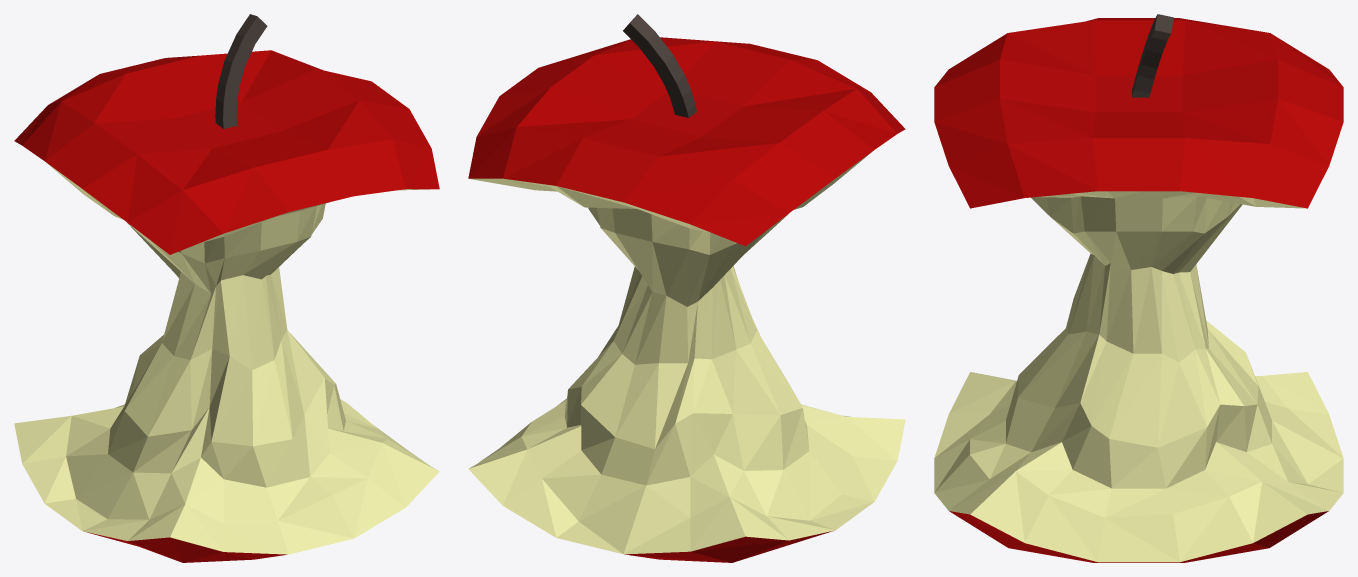
File: apple.FBX
The picture shows the model from 3 angles, left to right: view 1: azimuth 30°, elevation 25°; view 2: azimuth 150°, elevation 25°; view 3: azimuth 270°, elevation 25°; orthographic projection. The views are drawn at different scales.
Parts seen in each view (by area): view 1: apple; view 2: apple; view 3: apple.
Boxes of the visible parts, x1,y1,x2,y2 form: apple: (14, 14, 439, 562); apple: (468, 14, 905, 562); apple: (934, 14, 1343, 562).
Bounding box in the file's own units: 71.1 × 98.15 × 71.1.
